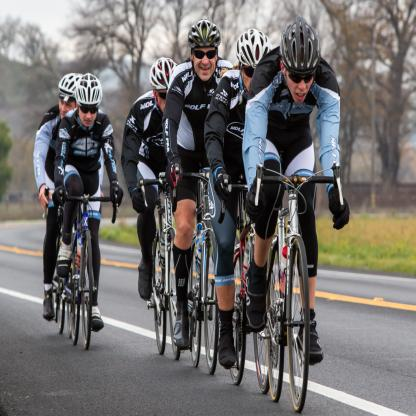Helmet: (279, 15, 324, 77), (234, 29, 271, 91), (186, 20, 222, 72), (147, 56, 177, 93), (75, 71, 103, 107), (59, 72, 84, 104)
